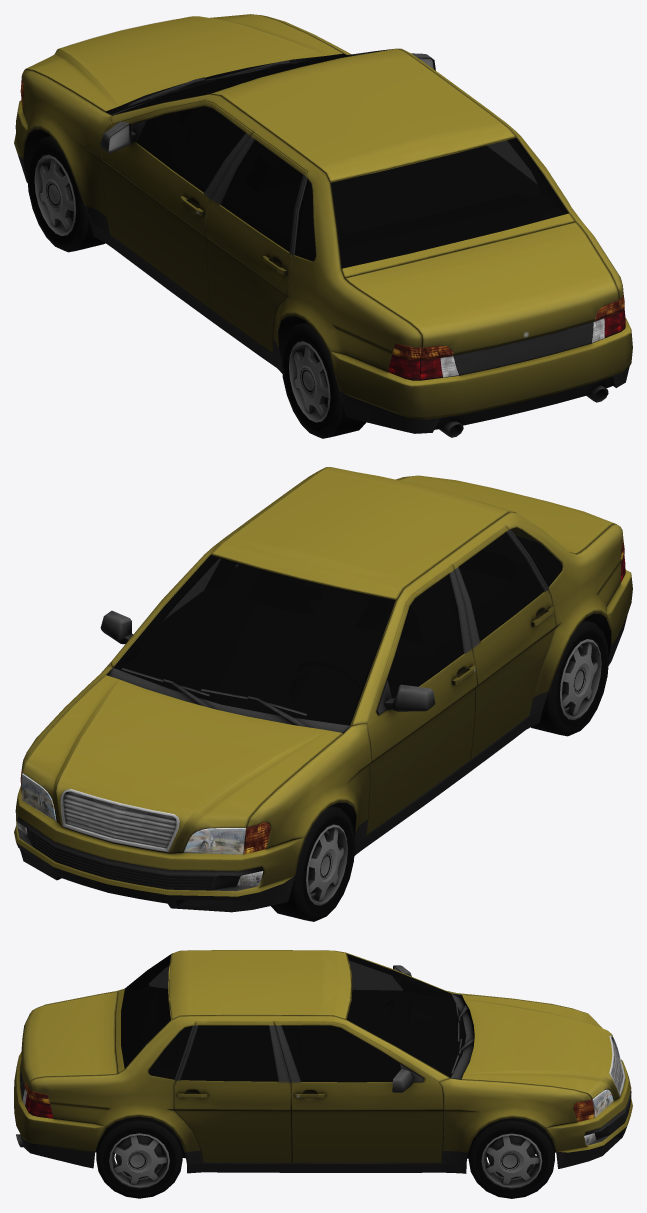
File: generic_sedan.glb
The picture shows the model from 3 angles, top to bottom: view 1: azimuth 30°, elevation 25°; view 2: azimuth 150°, elevation 25°; view 3: azimuth 270°, elevation 25°; orthographic projection. The views are drawn at different scales.
Visible parts, largest first — view 1: Sedan Body_Body_0, Sedan Body_Glass_0, Wheel_A001_Wheel_0, Wheel_A_Wheel_0, Sedan Body_Optics_0; view 2: Sedan Body_Body_0, Sedan Body_Glass_0, Wheel_A_Wheel_0, Wheel_A001_Wheel_0, Sedan Body_Optics_0; view 3: Sedan Body_Body_0, Sedan Body_Glass_0, Wheel_A003_Wheel_0, Wheel_A002_Wheel_0, Sedan Body_Optics_0.
Part boxes in pixels (x1,y1,x2,y2): Sedan Body_Body_0: (14,14,632,437); Sedan Body_Glass_0: (114,49,568,268); Wheel_A001_Wheel_0: (281,322,366,438); Wheel_A_Wheel_0: (27,136,105,252); Sedan Body_Optics_0: (20,76,625,380); Sedan Body_Body_0: (14,467,632,912); Sedan Body_Glass_0: (113,528,562,725); Wheel_A_Wheel_0: (271,805,355,921); Wheel_A001_Wheel_0: (531,620,608,736); Sedan Body_Optics_0: (16,542,625,886); Sedan Body_Body_0: (14,950,632,1173); Sedan Body_Glass_0: (121,953,466,1082); Wheel_A003_Wheel_0: (96,1116,182,1198); Wheel_A002_Wheel_0: (468,1118,554,1198); Sedan Body_Optics_0: (22,1083,613,1145).
Bounding box in the file's own units: 1.94 × 1.34 × 4.36.
4 materials, 3 textured.
